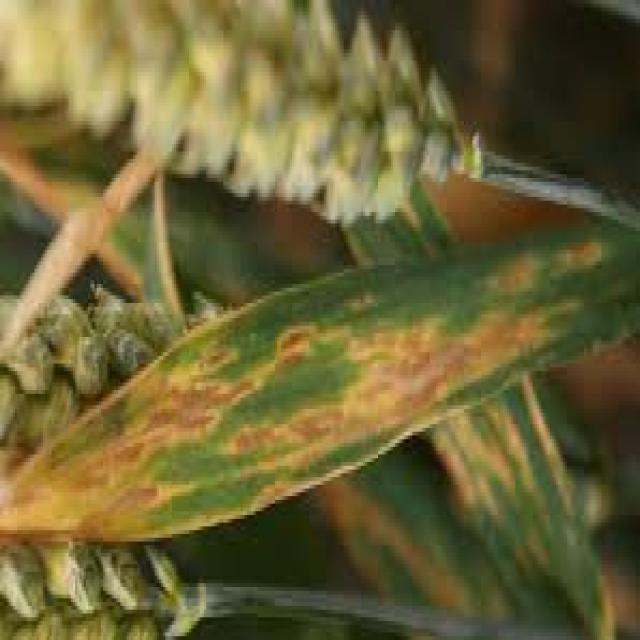leaf_blight: (0, 223, 638, 542)
